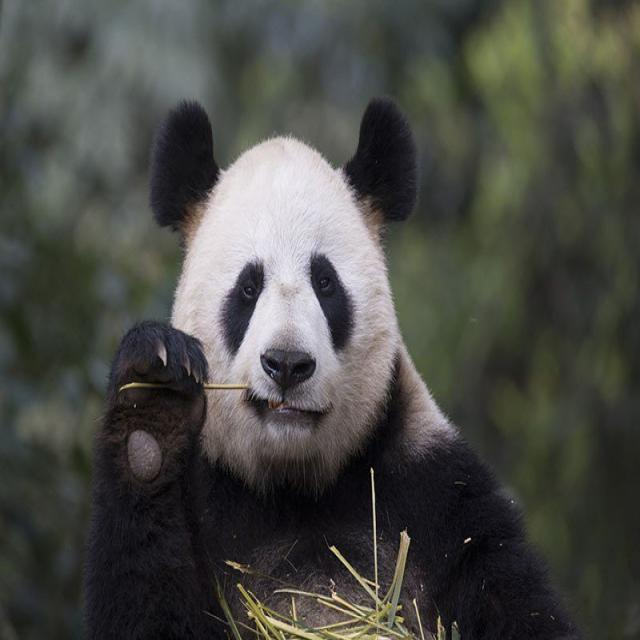Panda: (80, 78, 579, 640)
